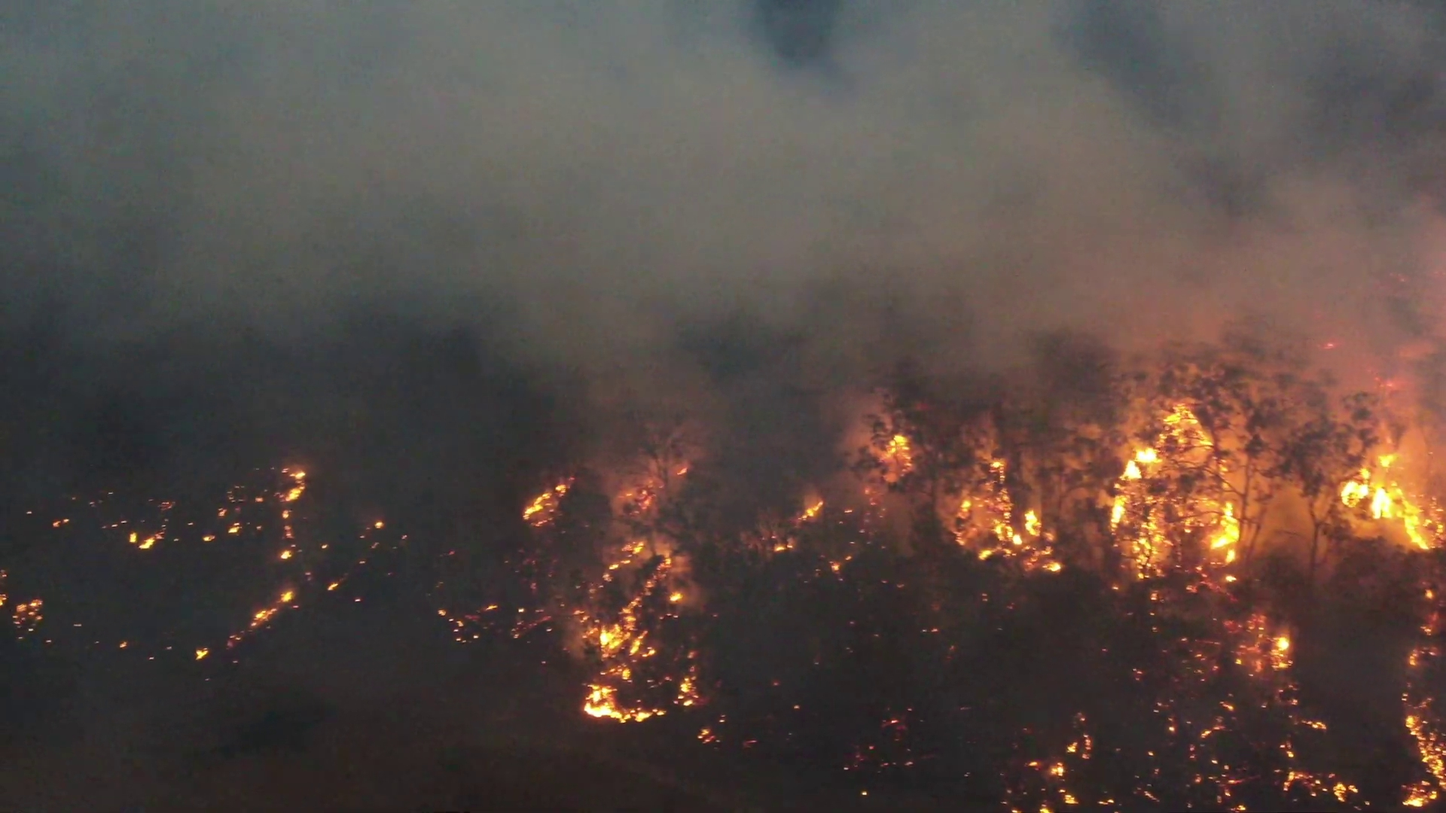forest_fire: (571, 531, 690, 722), (1106, 405, 1197, 579), (953, 458, 1064, 574), (201, 467, 307, 561), (1337, 466, 1426, 549), (226, 585, 297, 647), (619, 464, 689, 519), (1202, 498, 1244, 586), (1232, 613, 1292, 673), (763, 498, 825, 553), (521, 477, 575, 529), (437, 604, 499, 641), (882, 434, 917, 484), (671, 665, 700, 707), (514, 609, 553, 635), (126, 526, 166, 550), (1405, 781, 1438, 807), (16, 598, 41, 631)
